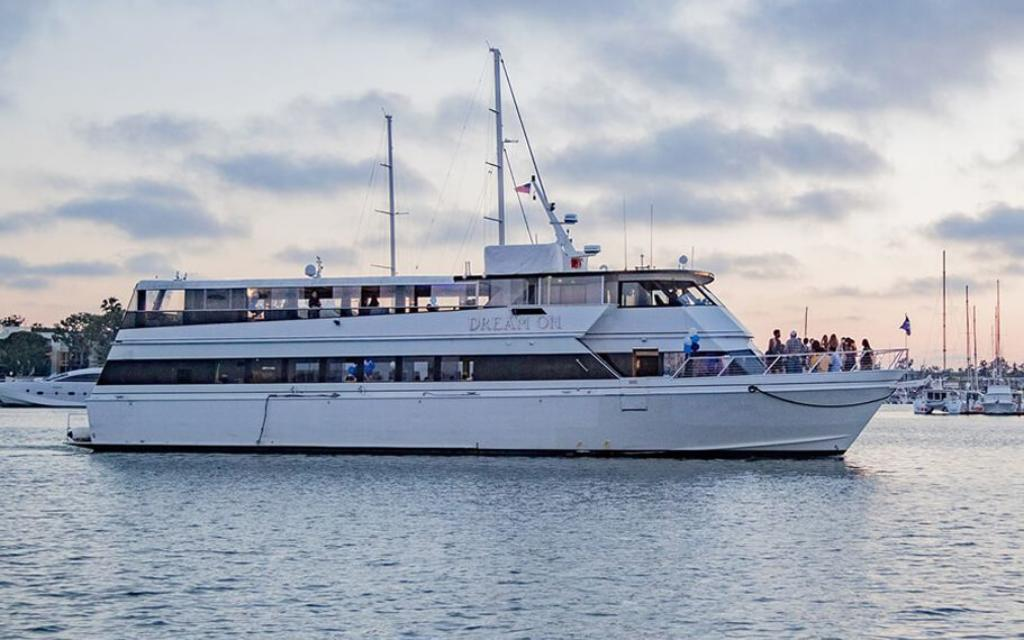PassengerShip: (69, 183, 923, 482), (0, 348, 124, 422), (980, 381, 1024, 417)
